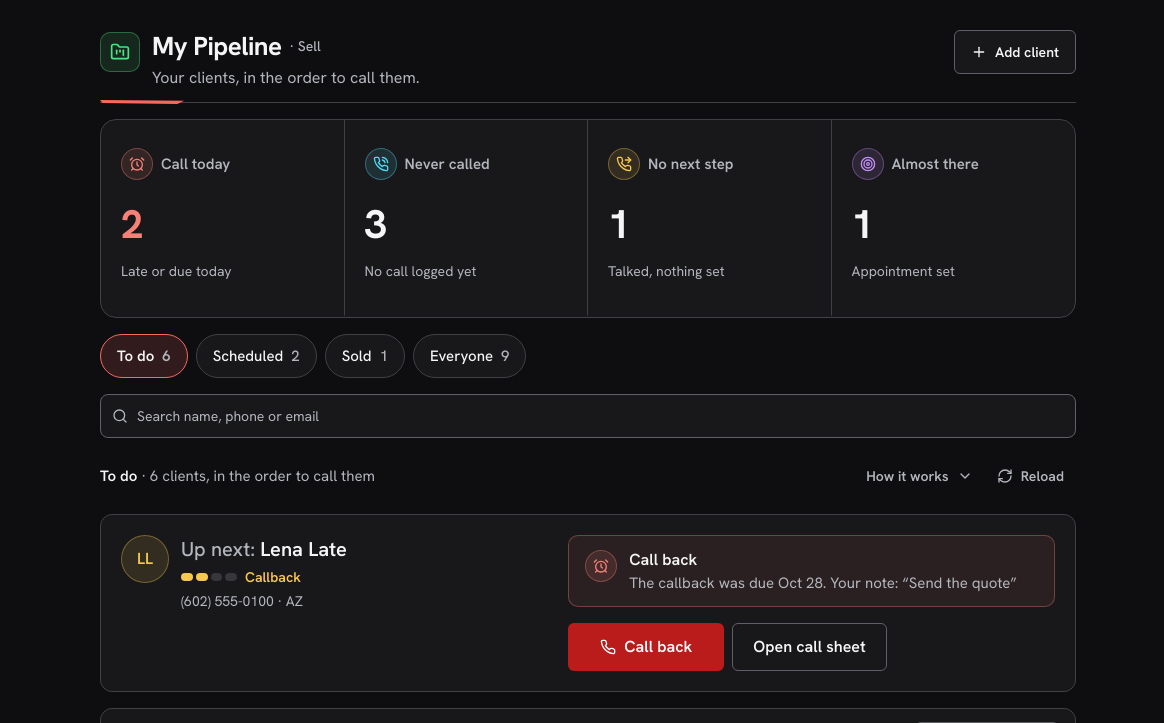
Test: My Pipeline › dials and opens the call sheet underneath, so the outcome is one tap away
Click the link with aria-label "Call back: call Lena Late" at (646, 647), box [568,623,724,671]
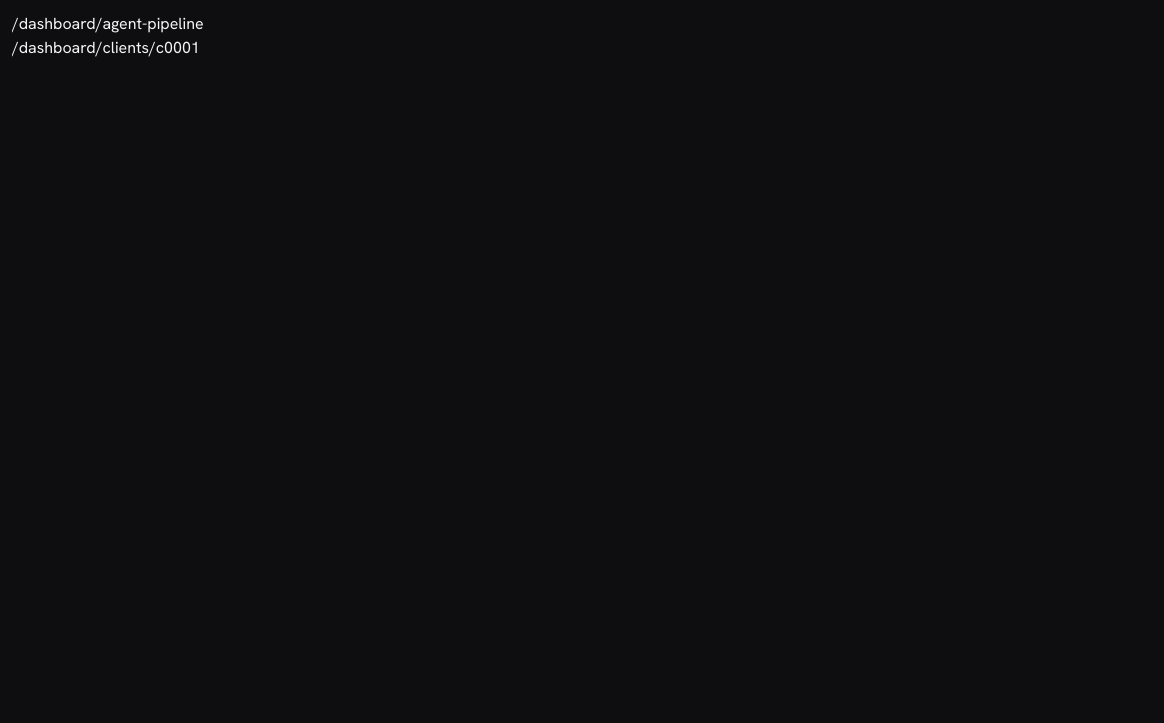
Expected: the text with test id "location" reads "/dashboard/clients/c0001", [12,37,200,58]
